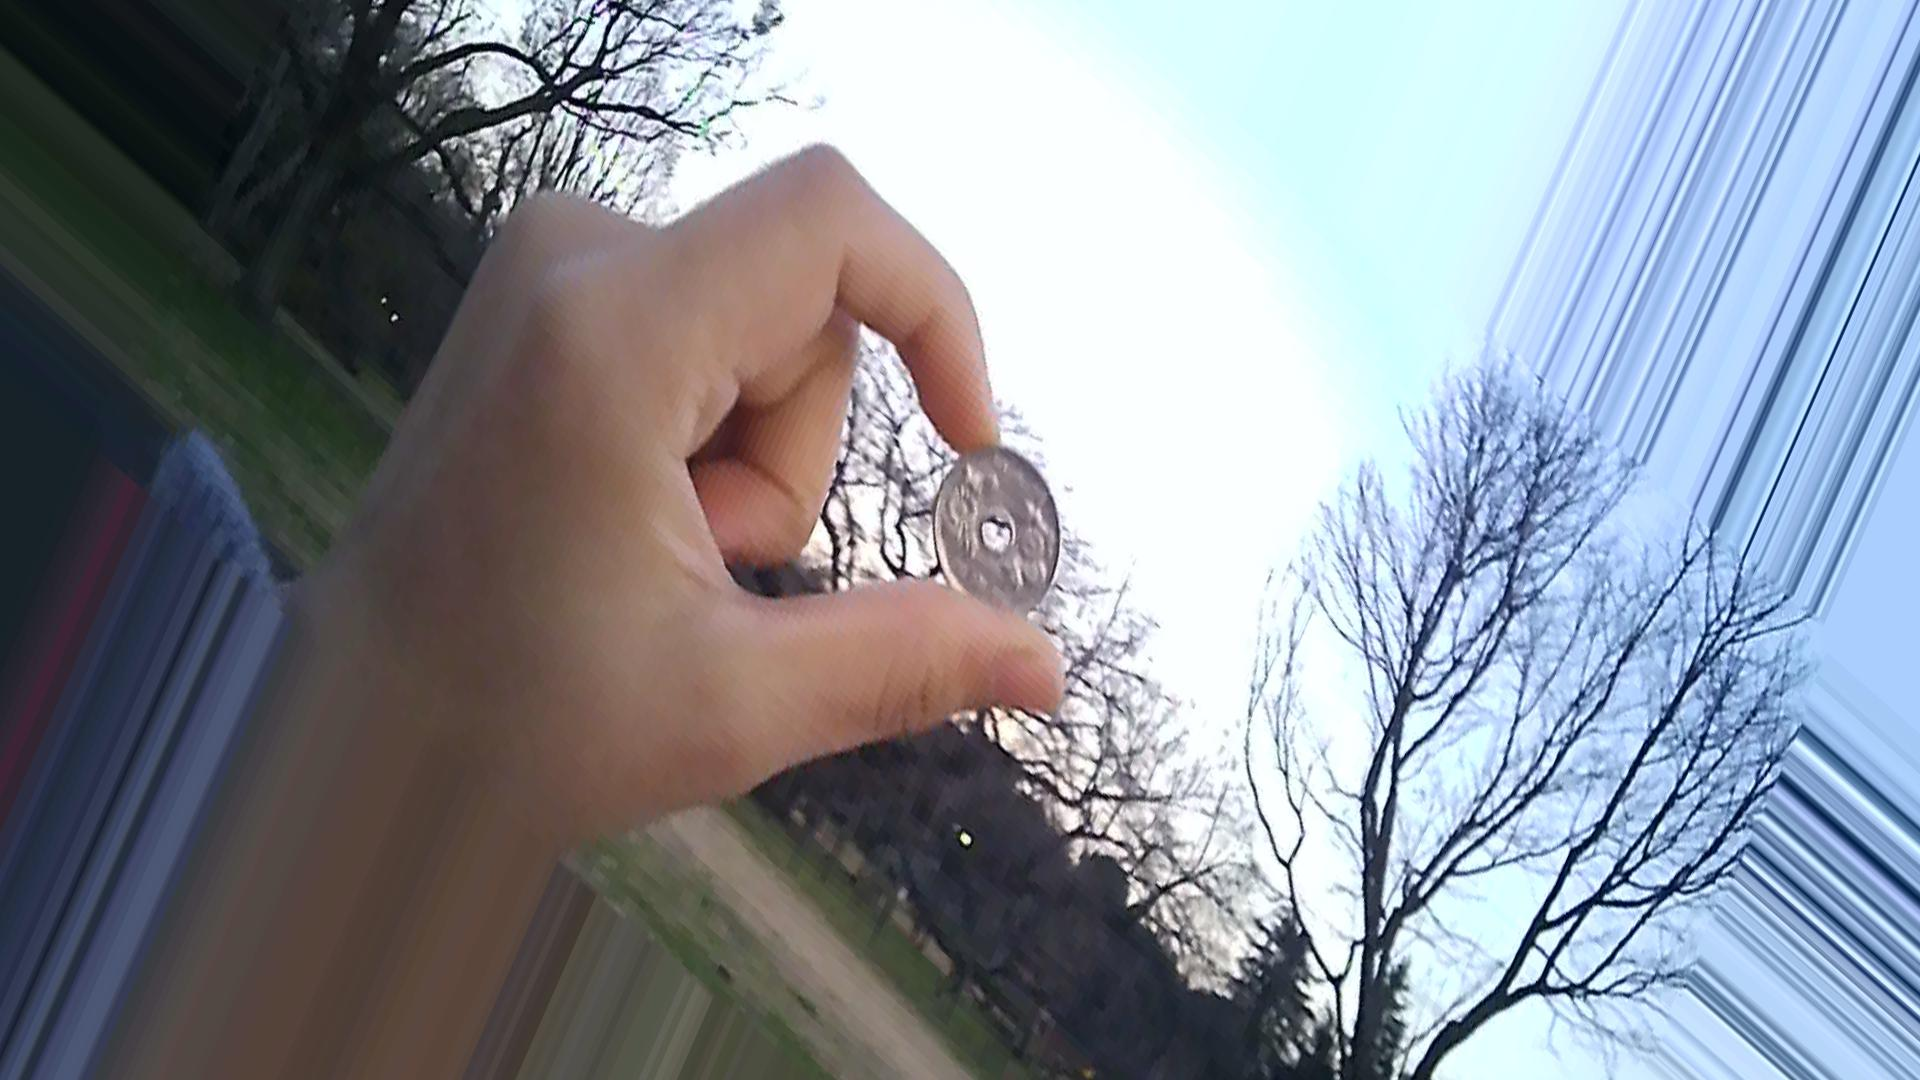50 Yen: (928, 439, 1080, 616)
